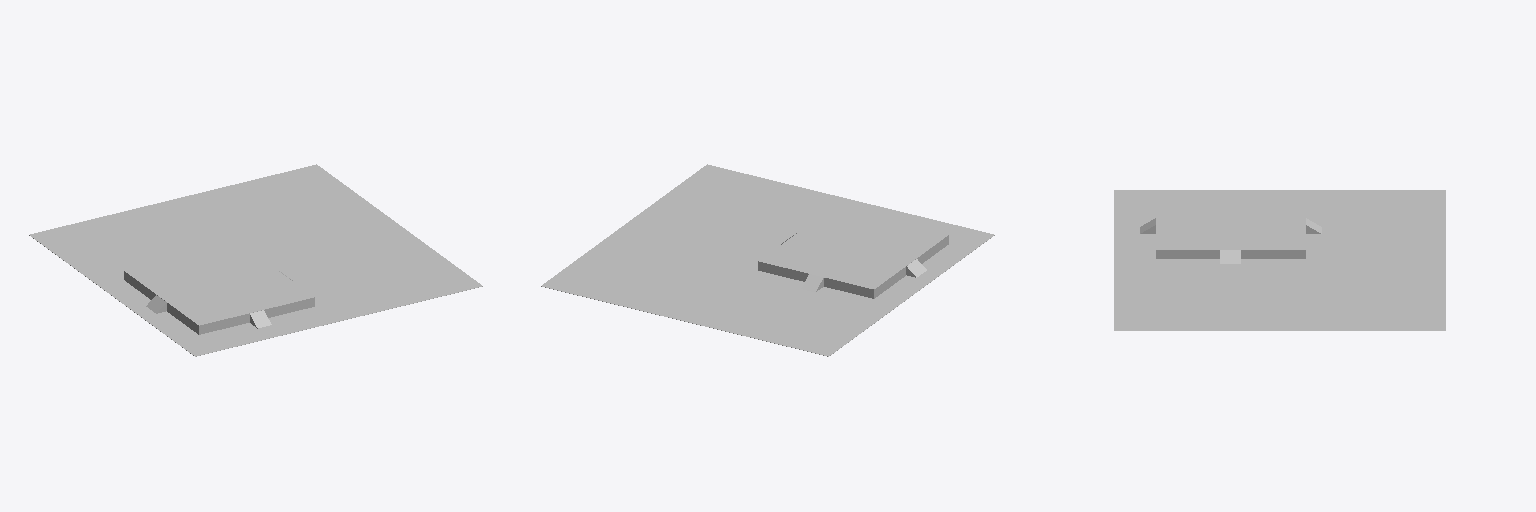
File: tamesicol2.obj
3 renders of one model, left to right at view 1: azimuth 30°, elevation 25°; view 2: azimuth 150°, elevation 25°; view 3: azimuth 270°, elevation 25°, orthographic.
Parts seen in each view (by area): view 1: grond, dodai; view 2: grond, dodai; view 3: grond, dodai.
Part boxes in pixels (left/top/right/bottom): grond: left=29, top=164, right=482, bottom=356; dodai: left=124, top=243, right=314, bottom=334; grond: left=541, top=164, right=994, bottom=356; dodai: left=758, top=207, right=948, bottom=298; grond: left=1114, top=190, right=1445, bottom=330; dodai: left=1156, top=193, right=1305, bottom=258.
Size of the model in its own units: 160 by 5.1 by 160.